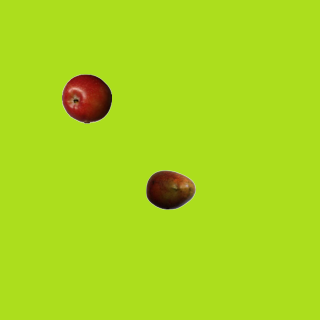Apple Braeburn: (61, 73, 111, 123)
Mango Red: (145, 164, 195, 214)
